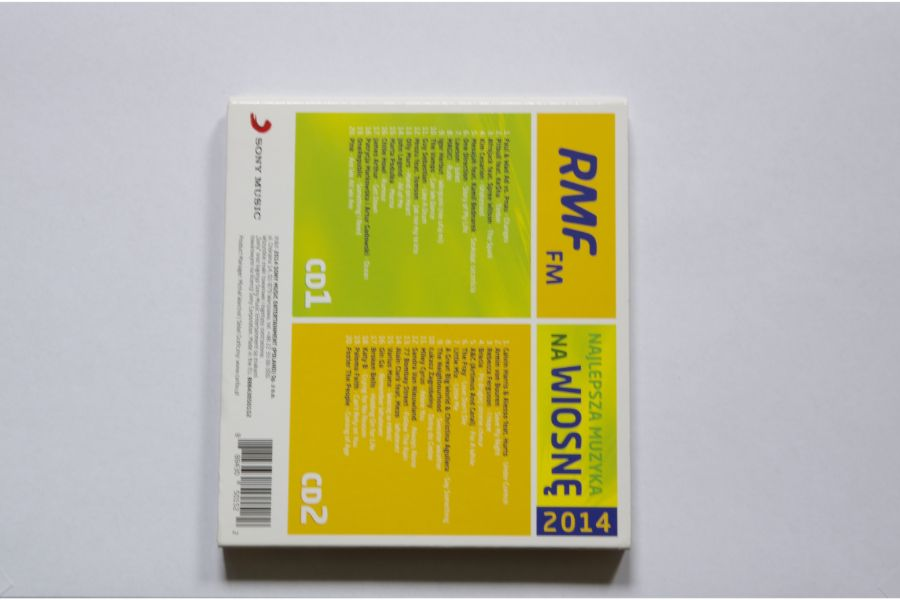album: (214, 97, 631, 552)
